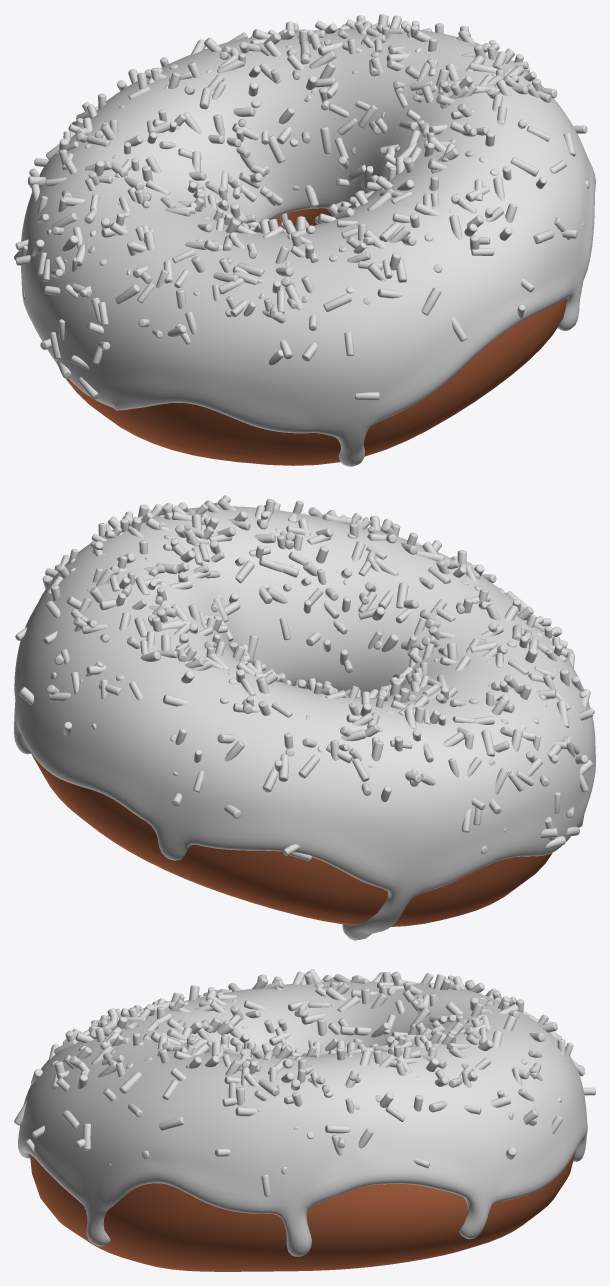
Rendered from Pączek.fbx.
3 renders of one model, top to bottom at view 1: azimuth 30°, elevation 25°; view 2: azimuth 150°, elevation 25°; view 3: azimuth 270°, elevation 25°, orthographic. The views are drawn at different scales.
Visible parts, largest first — view 1: Icing.002, Donut.001; view 2: Icing.002, Donut.001; view 3: Icing.002, Donut.001.
Boxes of the visible parts, <box> form: Icing.002: <box>20,28,595,466</box>; Donut.001: <box>66,208,566,465</box>; Icing.002: <box>14,506,595,940</box>; Donut.001: <box>31,688,552,926</box>; Icing.002: <box>18,981,587,1256</box>; Donut.001: <box>30,1151,575,1271</box>.
Bounding box in the file's own units: 12.69 × 7.12 × 13.
